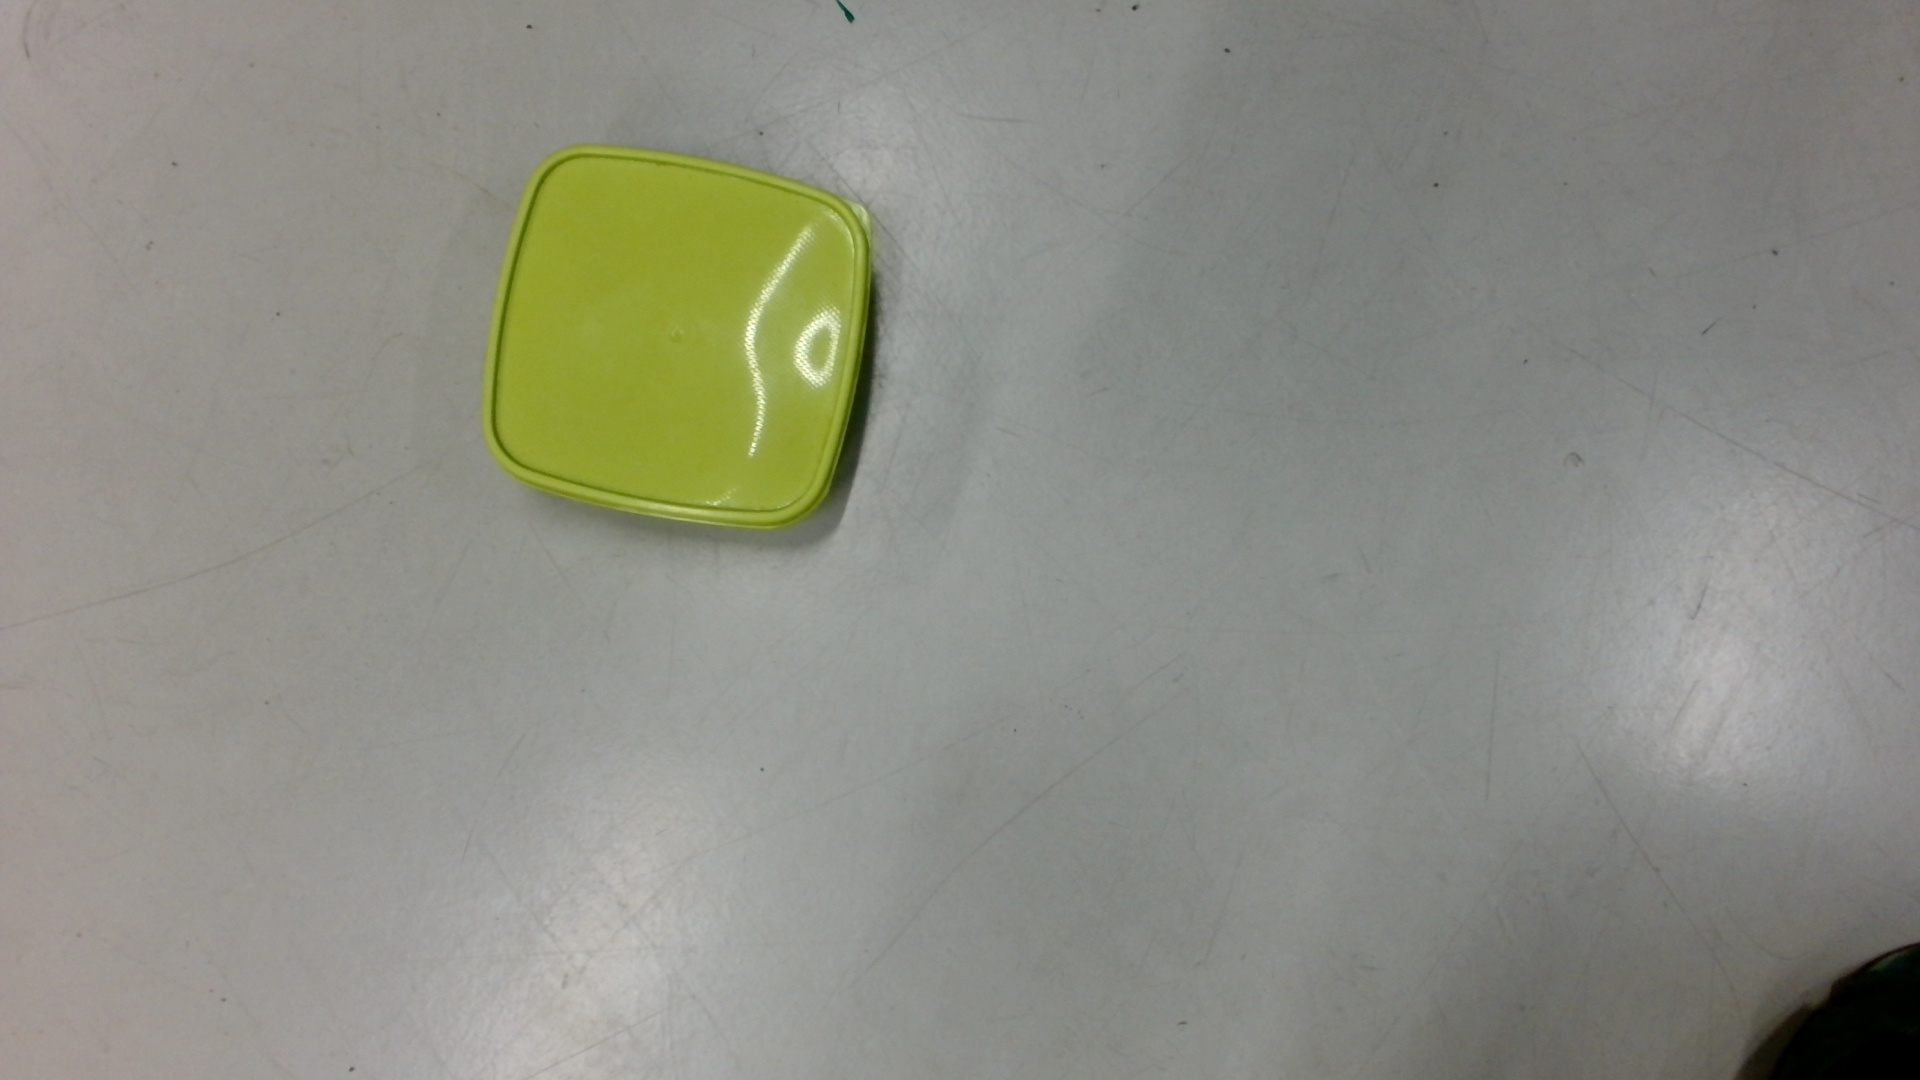Box: (472, 138, 880, 546)
